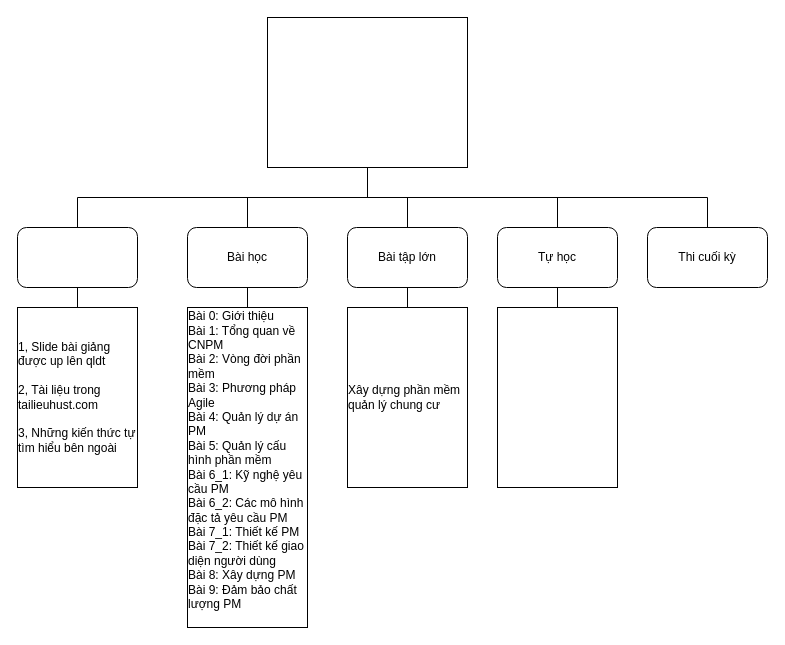
This 785x645 diagram has some shape labels left out. Here are the shapes that lost their labels. From the top down, the centre of each, then its label:
(367,92): Hoàn thành học phần CNPM 20241
(77,257): Tài liệu
(557,397): 1 Học trên lớp 2 Làm BTVN 3 Ôn lại kiến thức 4 Học kiến thức làm BTL
